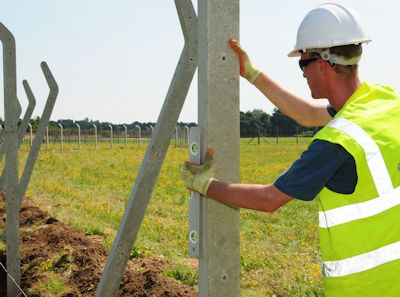epi: (228, 2, 400, 297)
